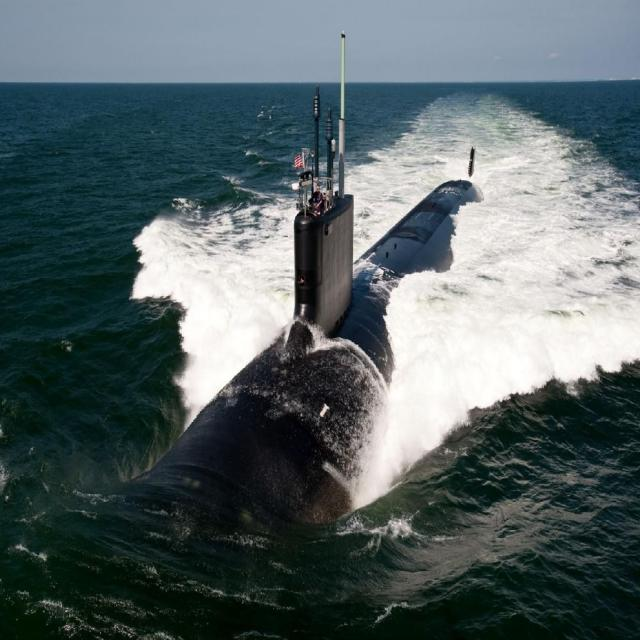submarine: (96, 25, 488, 563)
